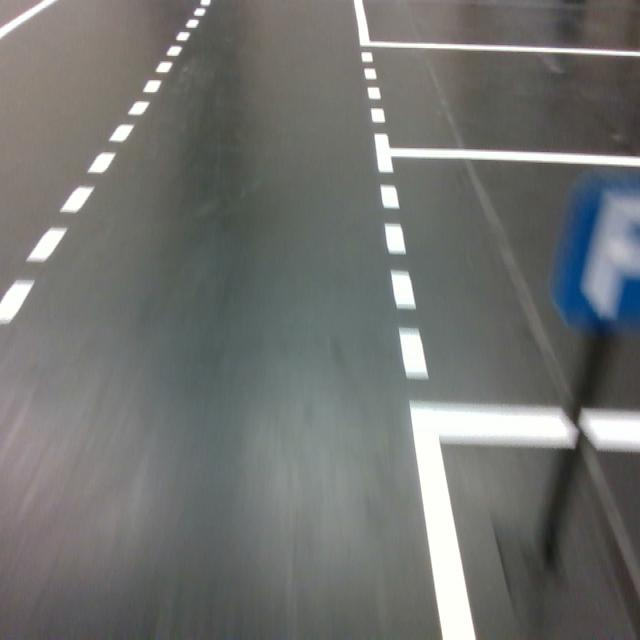parking-sign: (548, 173, 640, 329)
